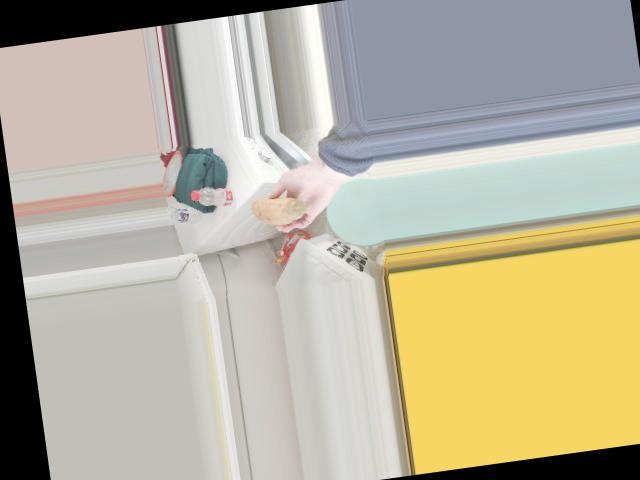sweet_potato: (245, 188, 315, 225)
